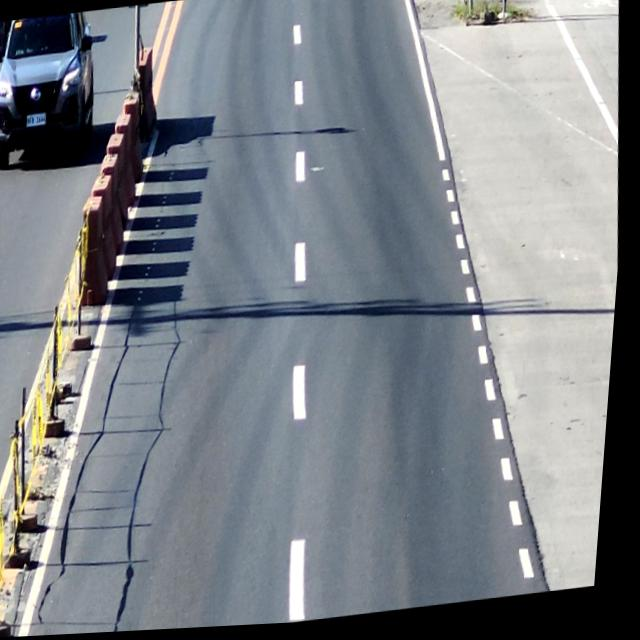License-Plate: (28, 112, 48, 127)
